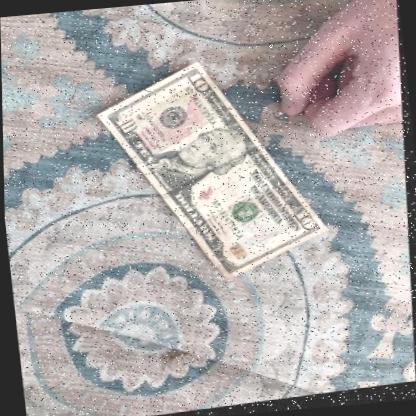ten-front: (98, 62, 330, 282)
